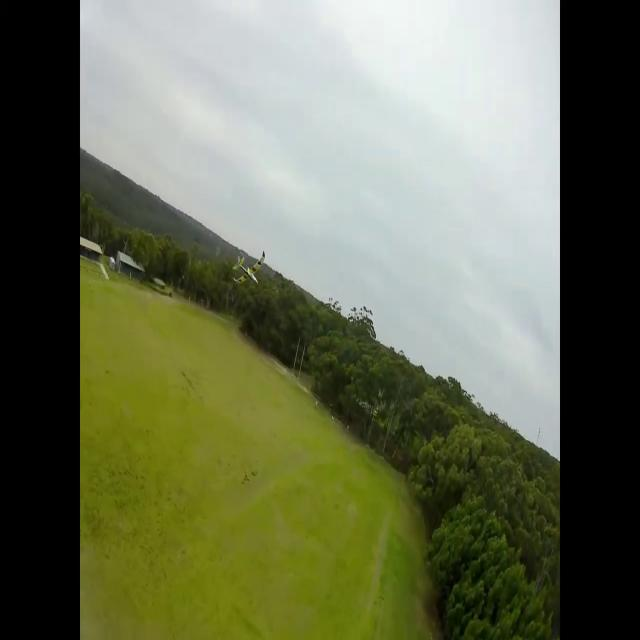iha: (230, 252, 266, 289)
